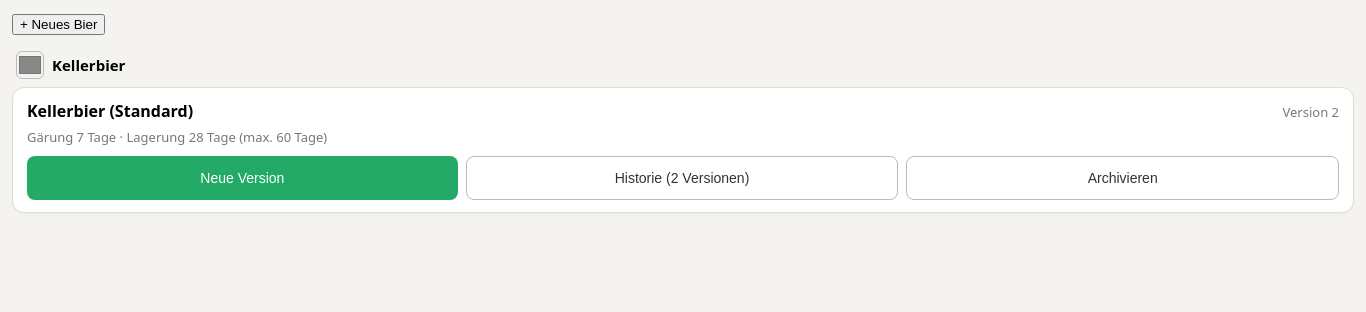
Test: zeigt die aktuelle Version je Stil und die Historie mit Änderungen
Expected: the text "Version 2" is shown, top-left (1282, 103), bottom-right (1339, 121)
Click the button "Historie (2 Versionen)".
click(682, 178)  # box top-left (466, 156), bottom-right (898, 200)
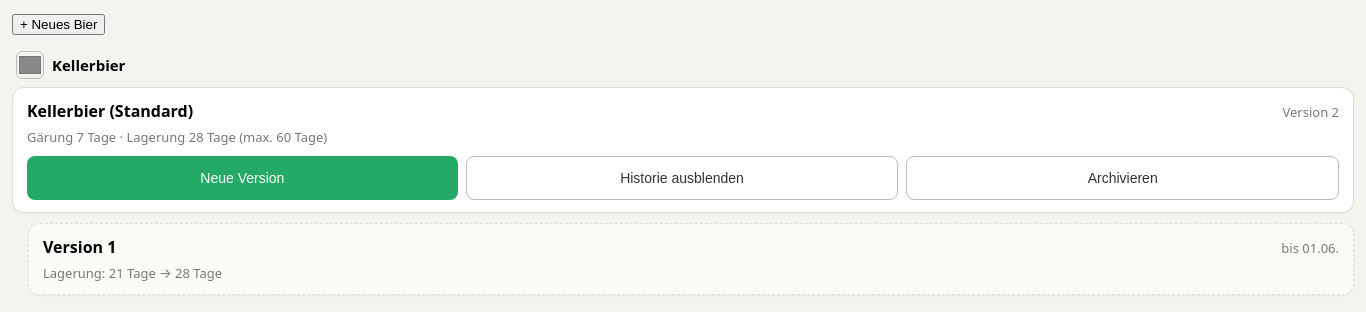
Expected: the text "Version 1" is shown, top-left (43, 236), bottom-right (116, 258)
Expected: the text "Lagerung: 21 Tage → 28 Tage" is shown, top-left (43, 264), bottom-right (222, 282)
